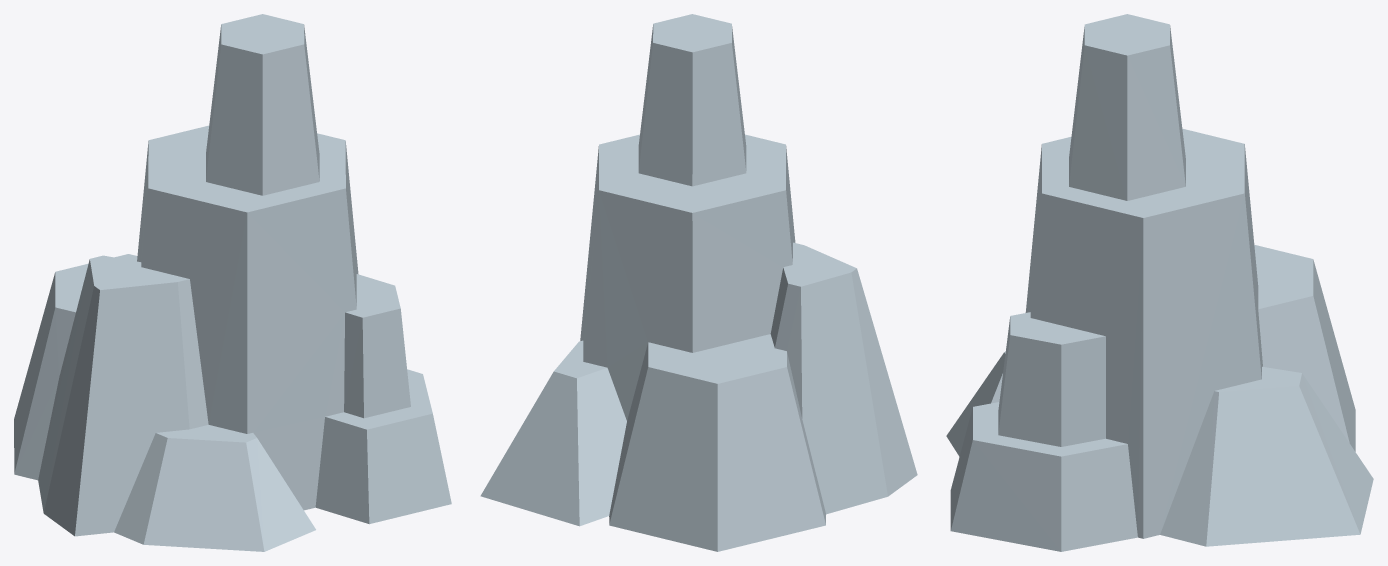
The model's file is rock-b.glb.
3 views of the same model, side by side, from view 1: azimuth 30°, elevation 25°; view 2: azimuth 150°, elevation 25°; view 3: azimuth 270°, elevation 25° (orthographic). The views are drawn at different scales.
Visible parts, largest first — view 1: prim_0; view 2: prim_0; view 3: prim_0.
Part boxes in pixels (x1,y1,x2,y2): prim_0: [14, 14, 451, 551]; prim_0: [480, 14, 917, 551]; prim_0: [946, 14, 1373, 551].
Size of the model in its own units: 1.06 by 1.22 by 1.07.
